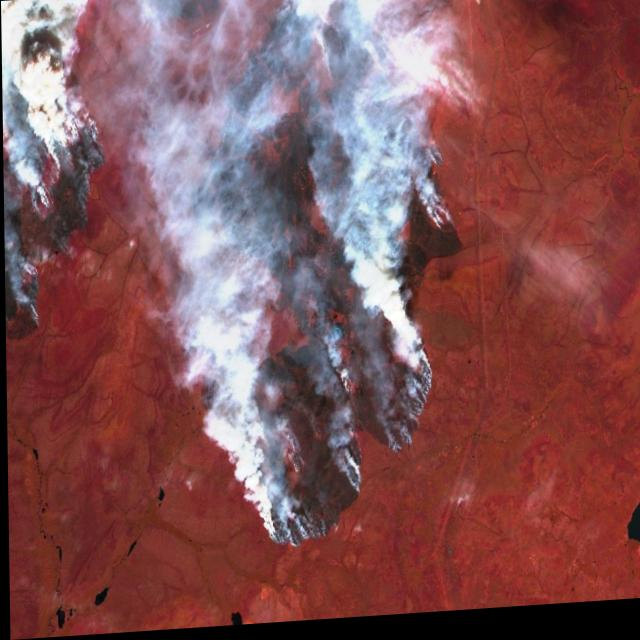fire: (197, 0, 469, 569), (0, 0, 108, 331)
